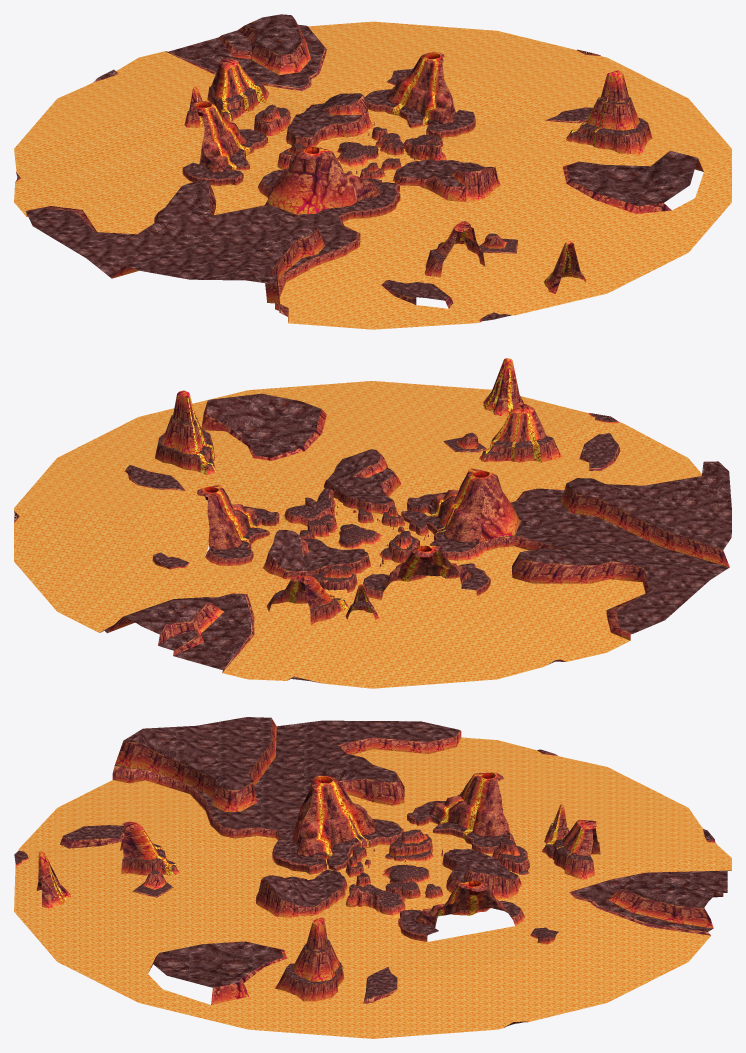
The model's file is Planet_Destroyed_bis.glb.
The picture shows the model from 3 angles, top to bottom: view 1: azimuth 30°, elevation 25°; view 2: azimuth 150°, elevation 25°; view 3: azimuth 270°, elevation 25°; orthographic projection.
Visible parts, largest first — view 1: Planet_Destroyed.001; view 2: Planet_Destroyed.001; view 3: Planet_Destroyed.001.
Boxes of the visible parts, x1,y1,x2,y2 form: Planet_Destroyed.001: (14,14,731,329); Planet_Destroyed.001: (14,358,731,688); Planet_Destroyed.001: (14,717,731,1038).
Size of the model in its own units: 1001 by 107 by 985.
67 materials, 67 textured.
